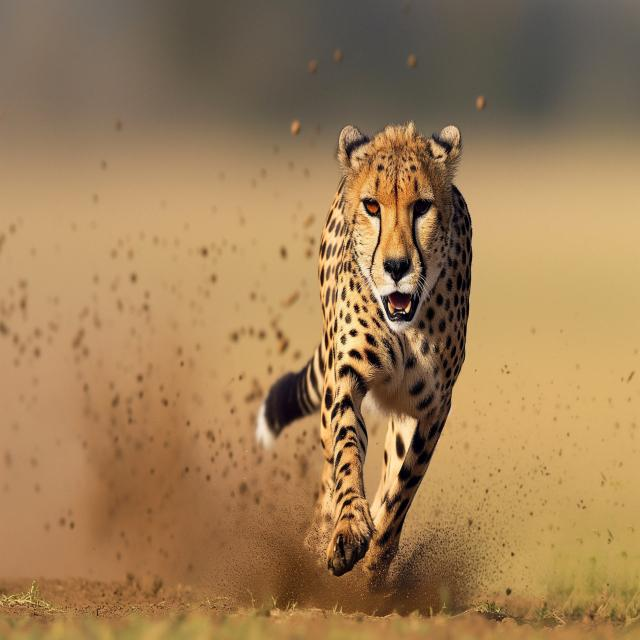Cheetah: (252, 111, 480, 594)
